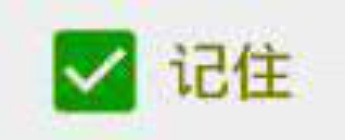CheckBox: (1, 1, 344, 139)
